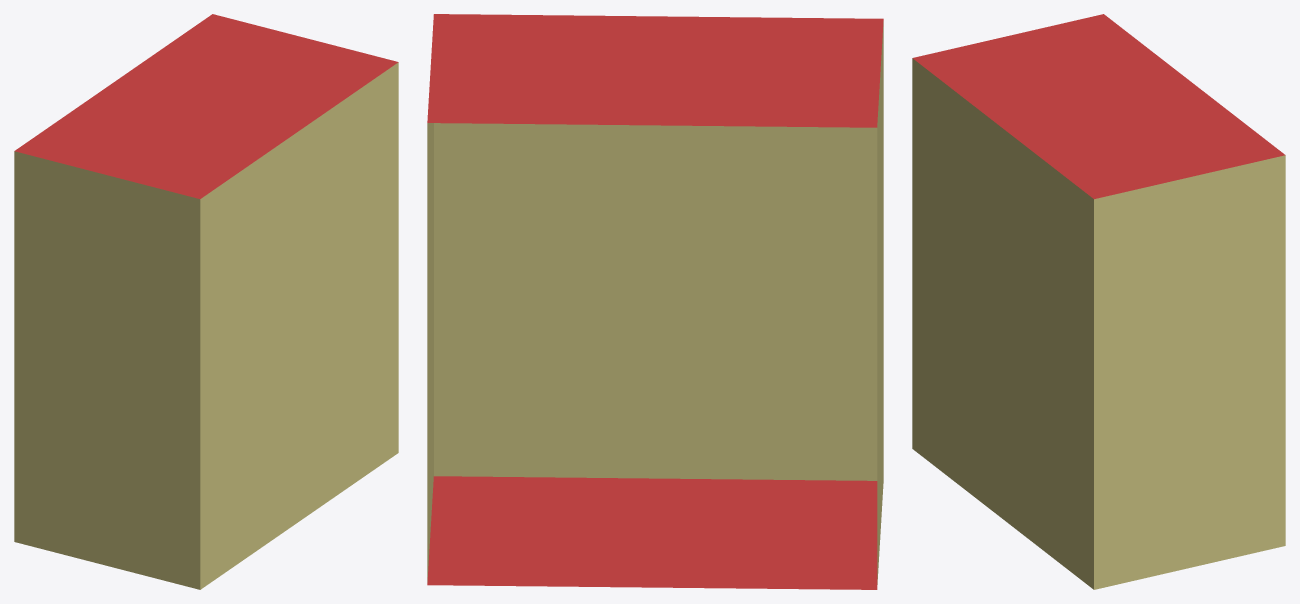
3 renders of one model, left to right at view 1: azimuth 30°, elevation 25°; view 2: azimuth 150°, elevation 25°; view 3: azimuth 270°, elevation 25°, orthographic. The views are drawn at different scales.
Parts seen in each view (by area): view 1: group_4, group_3; view 2: group_4, group_3, group_5; view 3: group_4, group_3.
Part boxes in pixels (x1,y1,x2,y2): group_4: [14, 62, 398, 589]; group_3: [14, 14, 398, 198]; group_4: [427, 21, 883, 584]; group_3: [427, 14, 883, 127]; group_5: [427, 476, 877, 589]; group_4: [912, 58, 1285, 589]; group_3: [912, 14, 1285, 199].
Size of the model in its own units: 5.42 by 4.61 by 5.33.
